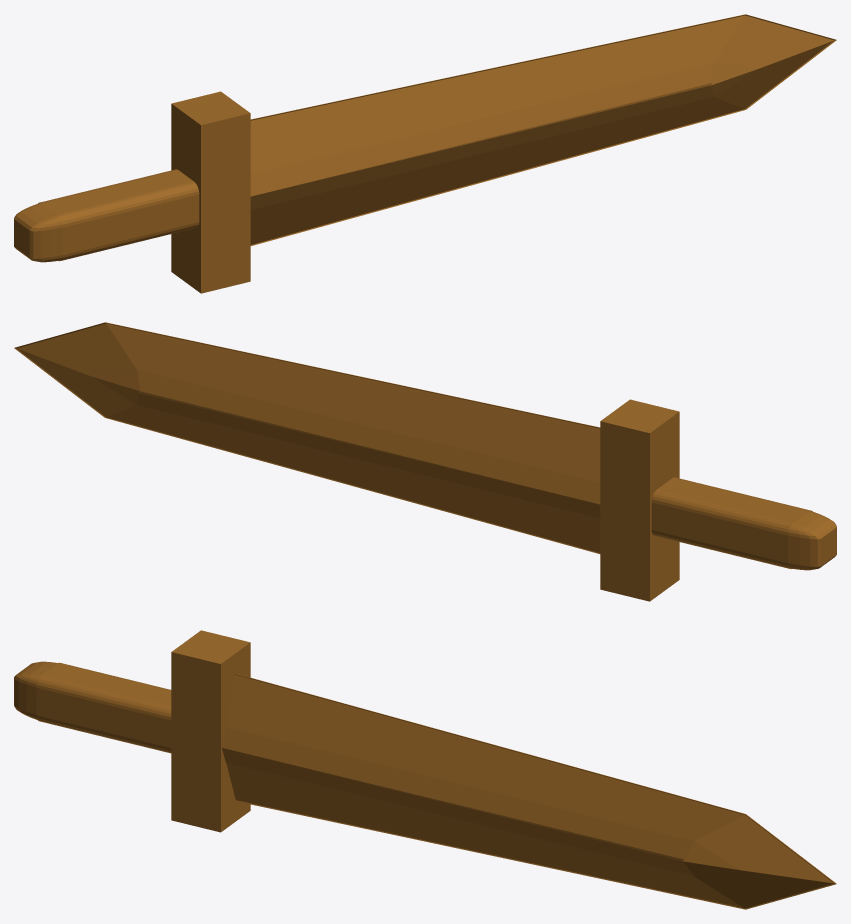
The model's file is woodensword.glb.
3 views of the same model, one above another, from view 1: azimuth 30°, elevation 25°; view 2: azimuth 150°, elevation 25°; view 3: azimuth 330°, elevation 25° (orthographic).
Visible parts, largest first — view 1: bilah, pembatas, gagang; view 2: bilah, pembatas, gagang; view 3: bilah, pembatas, gagang.
Boxes of the visible parts, box(x1,y1,x2,y2) form: bilah: box(250, 14, 836, 245); pembatas: box(171, 91, 250, 293); gagang: box(14, 169, 199, 262); bilah: box(14, 322, 600, 553); pembatas: box(600, 399, 679, 601); gagang: box(651, 477, 836, 570); bilah: box(221, 673, 836, 909); pembatas: box(171, 630, 250, 832); gagang: box(14, 661, 171, 753).
Size of the model in its own units: 4.01 by 0.7915 by 0.2532.
